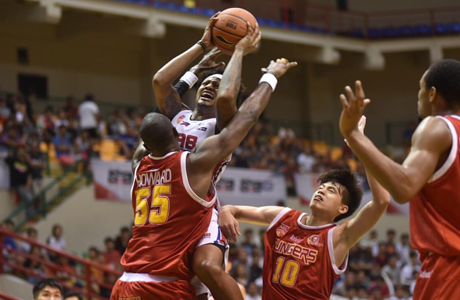ball: (208, 4, 260, 57)
player: (111, 57, 294, 298), (339, 56, 459, 300), (152, 22, 257, 300), (218, 153, 385, 300)
